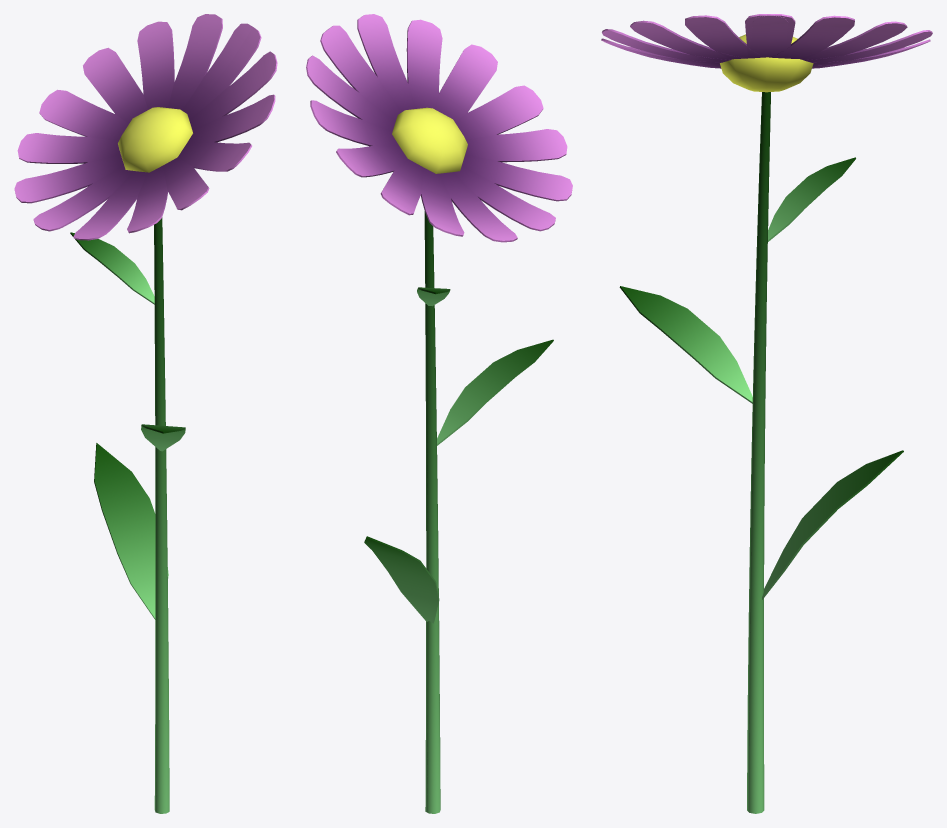
The model's file is SunFlower_Purple.fbx.
The picture shows the model from 3 angles, left to right: view 1: azimuth 30°, elevation 25°; view 2: azimuth 150°, elevation 25°; view 3: azimuth 270°, elevation 25°; orthographic projection. The views are drawn at different scales.
Parts seen in each view (by area): view 1: pasted__pasted__Plane.016, pasted__pasted__Cylinder.024, pasted__pasted__Plane.013, pasted__pasted__Sphere.001, pasted__pasted__Plane.015, pasted__pasted__Plane.014; view 2: pasted__pasted__Plane.016, pasted__pasted__Cylinder.024, pasted__pasted__Sphere.001, pasted__pasted__Plane.014, pasted__pasted__Plane.013; view 3: pasted__pasted__Plane.016, pasted__pasted__Cylinder.024, pasted__pasted__Plane.014, pasted__pasted__Plane.013, pasted__pasted__Sphere.001, pasted__pasted__Plane.015.
Part boxes in pixels (x1=…): pasted__pasted__Plane.016: x1=14, y1=14, x2=277, y2=240; pasted__pasted__Cylinder.024: x1=154, y1=217, x2=169, y2=813; pasted__pasted__Plane.013: x1=94, y1=443, x2=168, y2=619; pasted__pasted__Sphere.001: x1=118, y1=107, x2=192, y2=172; pasted__pasted__Plane.015: x1=70, y1=232, x2=154, y2=304; pasted__pasted__Plane.014: x1=141, y1=424, x2=185, y2=451; pasted__pasted__Plane.016: x1=306, y1=14, x2=572, y2=242; pasted__pasted__Cylinder.024: x1=424, y1=211, x2=440, y2=813; pasted__pasted__Sphere.001: x1=392, y1=107, x2=467, y2=173; pasted__pasted__Plane.014: x1=437, y1=339, x2=553, y2=445; pasted__pasted__Plane.013: x1=364, y1=536, x2=439, y2=623; pasted__pasted__Plane.016: x1=601, y1=14, x2=932, y2=68; pasted__pasted__Cylinder.024: x1=747, y1=92, x2=770, y2=813; pasted__pasted__Plane.014: x1=619, y1=286, x2=752, y2=403; pasted__pasted__Plane.013: x1=762, y1=450, x2=903, y2=599; pasted__pasted__Sphere.001: x1=720, y1=34, x2=813, y2=92; pasted__pasted__Plane.015: x1=768, y1=157, x2=855, y2=241.
Bounding box in the file's own units: 15.95 × 52.46 × 18.57.
